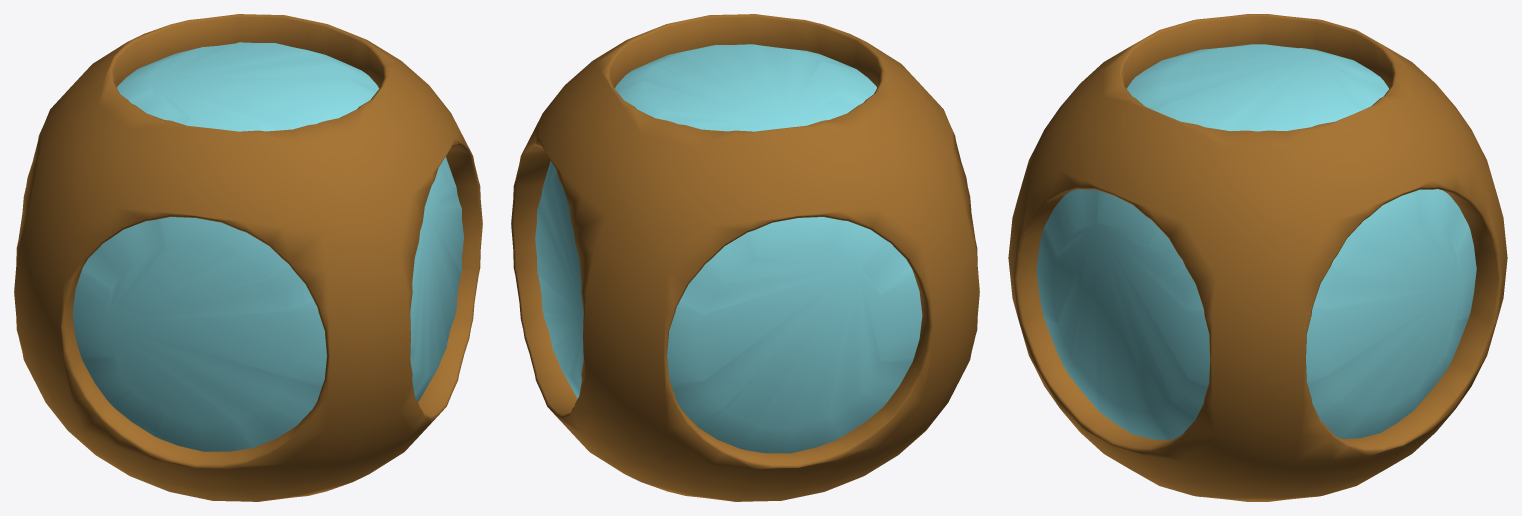
Rendered from mdl_bigSubstanceSphere.fbx.
The picture shows the model from 3 angles, left to right: view 1: azimuth 30°, elevation 25°; view 2: azimuth 150°, elevation 25°; view 3: azimuth 270°, elevation 25°; orthographic projection.
Visible parts, largest first — view 1: mesh_Big_SubstanceSphere; view 2: mesh_Big_SubstanceSphere; view 3: mesh_Big_SubstanceSphere.
Boxes of the visible parts, x1,y1,x2,y2 form: mesh_Big_SubstanceSphere: [14, 14, 482, 501]; mesh_Big_SubstanceSphere: [511, 14, 979, 501]; mesh_Big_SubstanceSphere: [1008, 14, 1507, 501].
Size of the model in its own units: 20.54 by 16.93 by 20.54.
